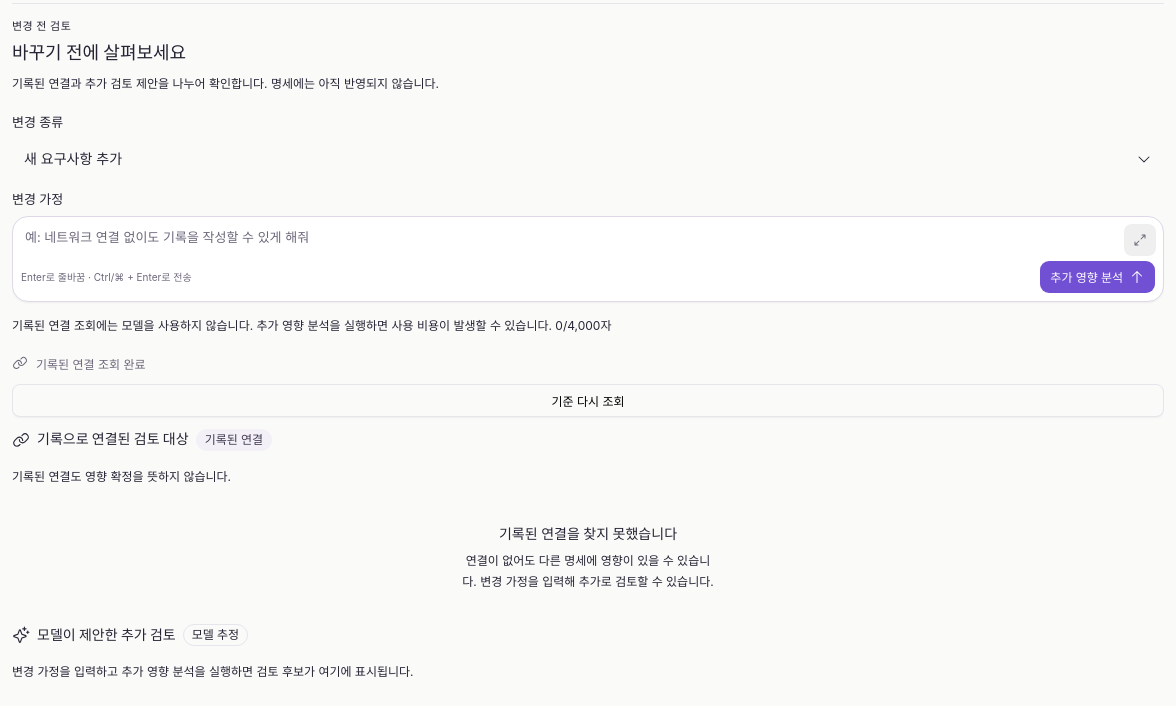
Test: 변경 영향 검토 › 연결이 없는 신규 요구사항도 추가 분석할 수 있다
Check: the text "기록된 연결 조회 완료" is shown, box x1=36 y1=357 x2=146 y2=372
Check: the text "기록된 연결을 찾지 못했습니다" is shown, box x1=499 y1=523 x2=677 y2=543
Type "오프라인 지원" into the text box labelled "변경 가정" at [588, 237], box x1=13 y1=217 x2=1163 y2=257
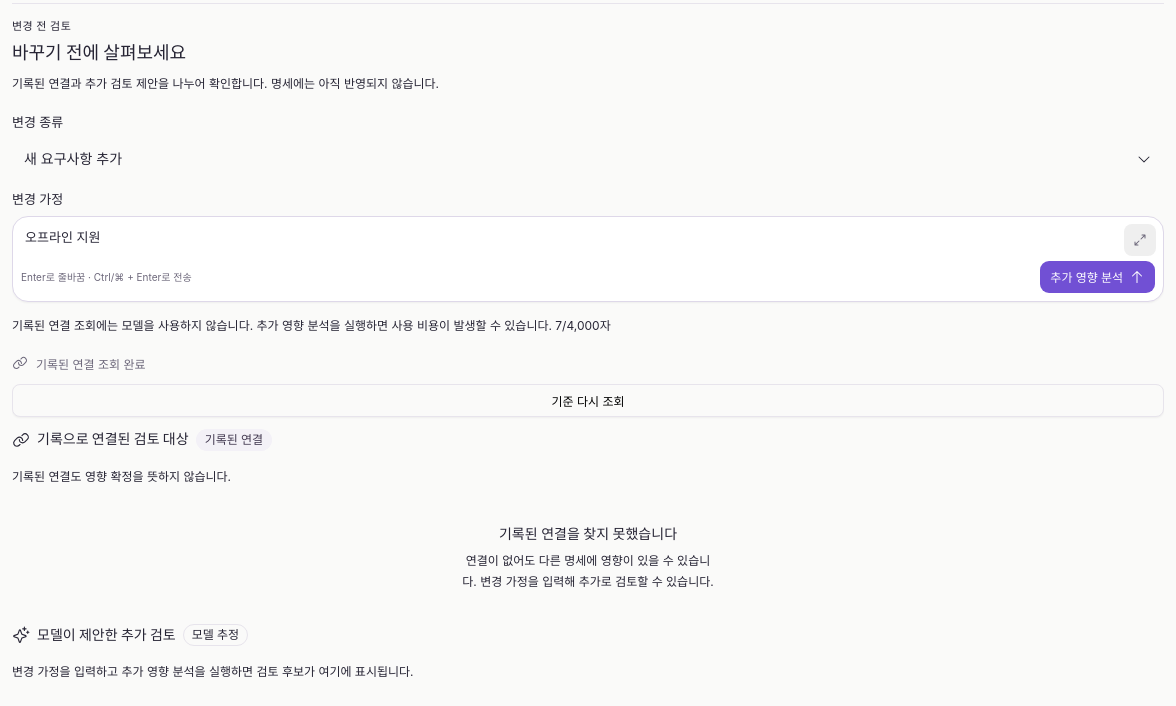
Click the button "추가 영향 분석" at [1098, 277], box x1=1040 y1=261 x2=1155 y2=293
(page scrolled)
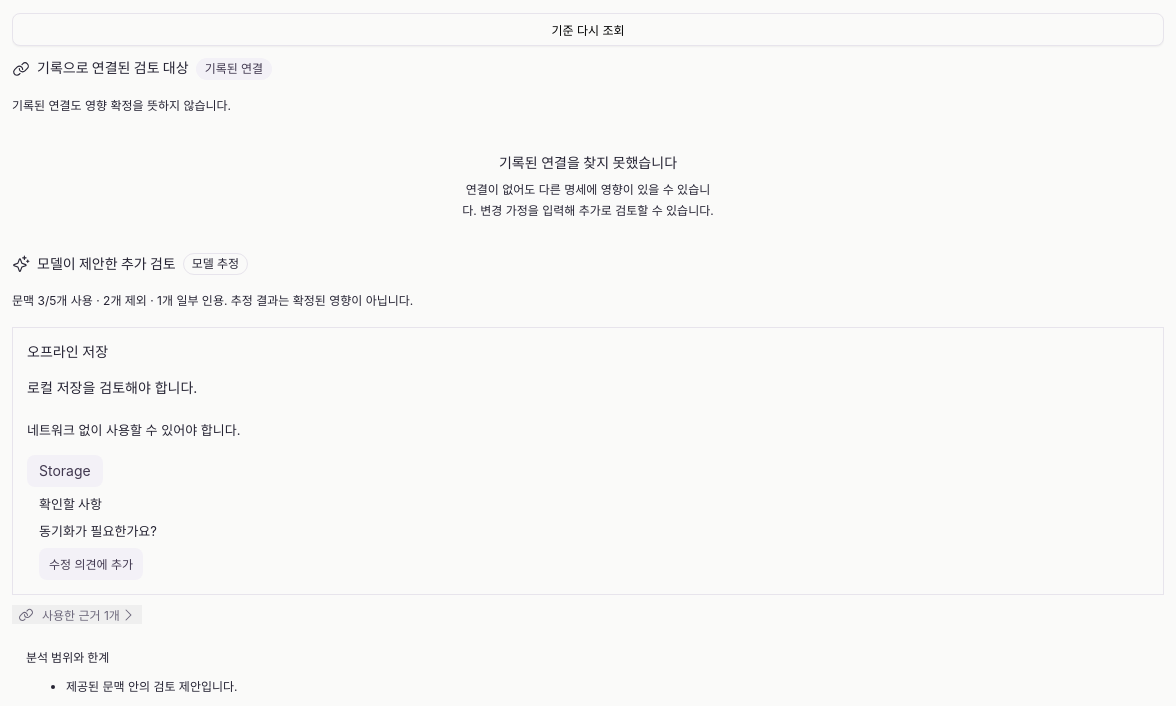
Check: the text "오프라인 저장" is shown, box x1=27 y1=342 x2=108 y2=362
